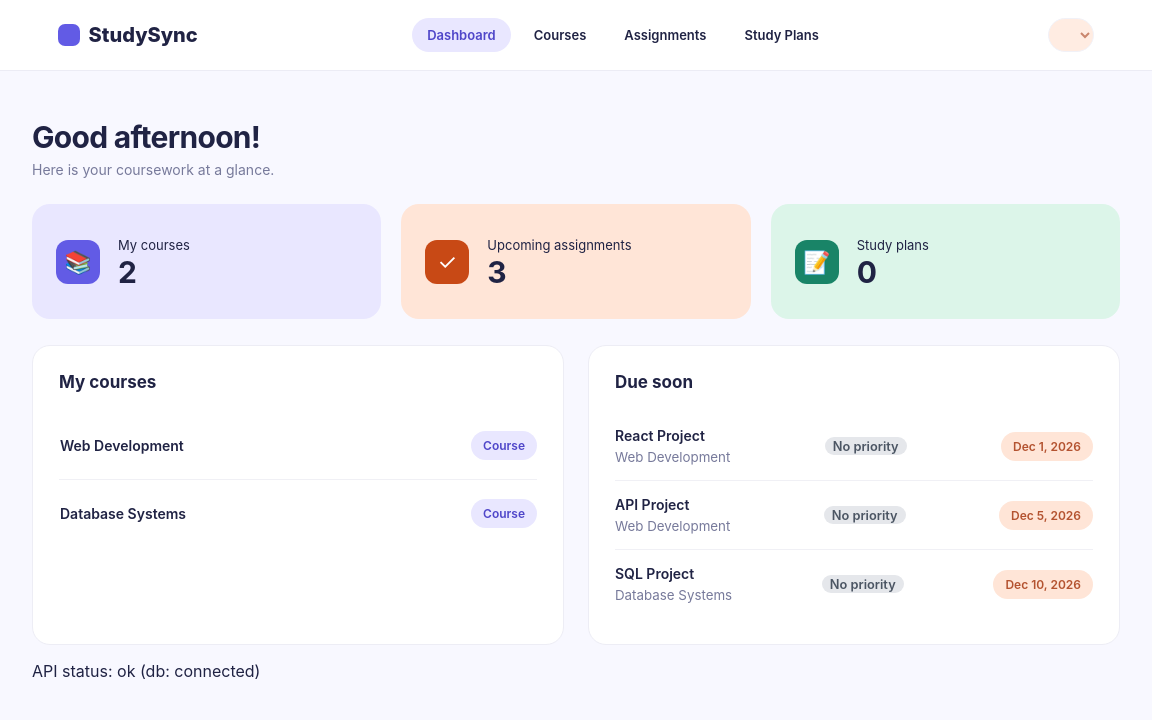
displays courses and their assignment counts
What coordinates should you click on to do the following:
click the button "Courses"
I would click on:
 (560, 35)
Its box is [519,18,601,52].
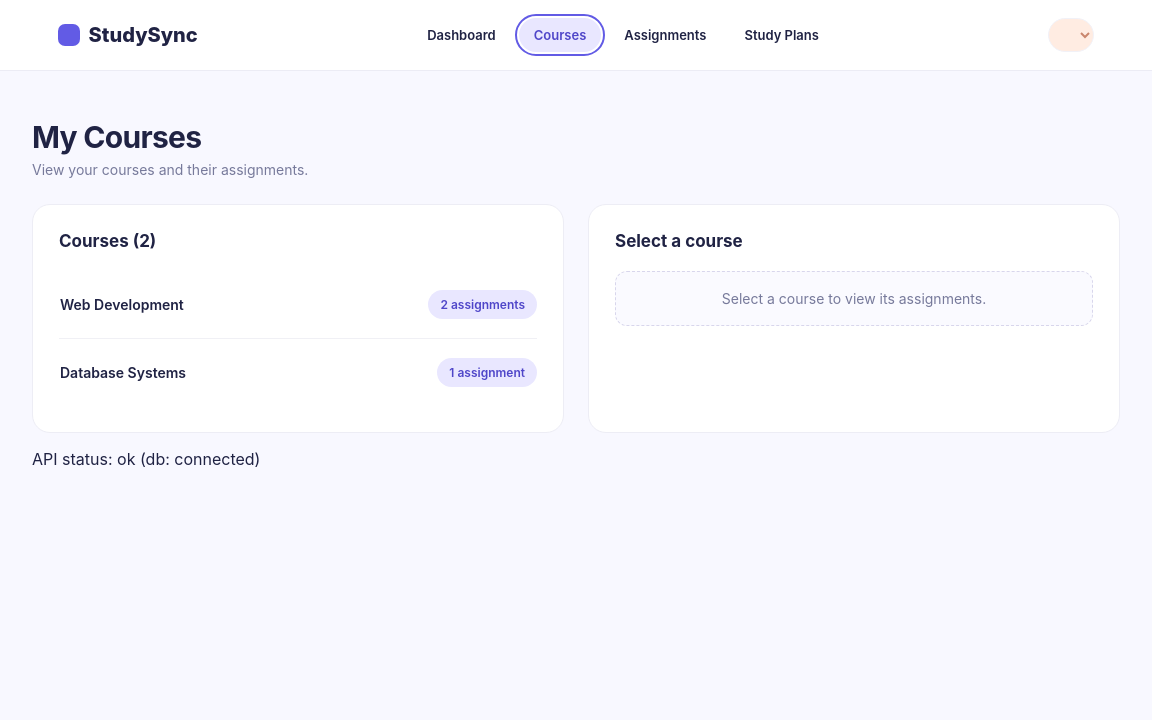
Check: the heading "Courses (2)" is shown, box [59,231,156,251]
Check: the text "2 assignments" is shown, box [428,290,537,319]
Check: the text "1 assignment" is shown, box [437,358,537,387]
What coordinates should you click on to do the following:
click the button "Web Development"
I would click on:
 (122, 304)
Its box is [47,286,197,323].
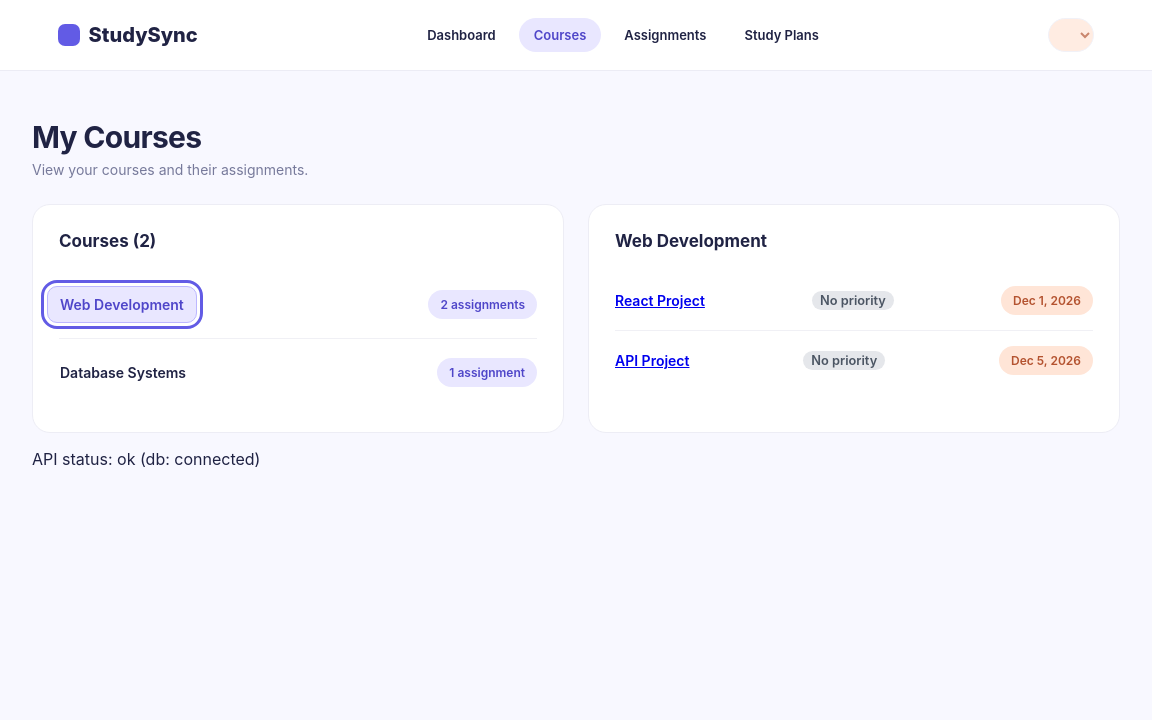
Check: the text "SQL Project" is not shown
Check: the link "React Project" is shown, box [615,292,705,309]
Check: the link "API Project" is shown, box [615,352,690,369]
What coordinates should you click on to do the following:
click the button "Database Systems"
I would click on:
 (123, 372)
Its box is [47,354,199,391].
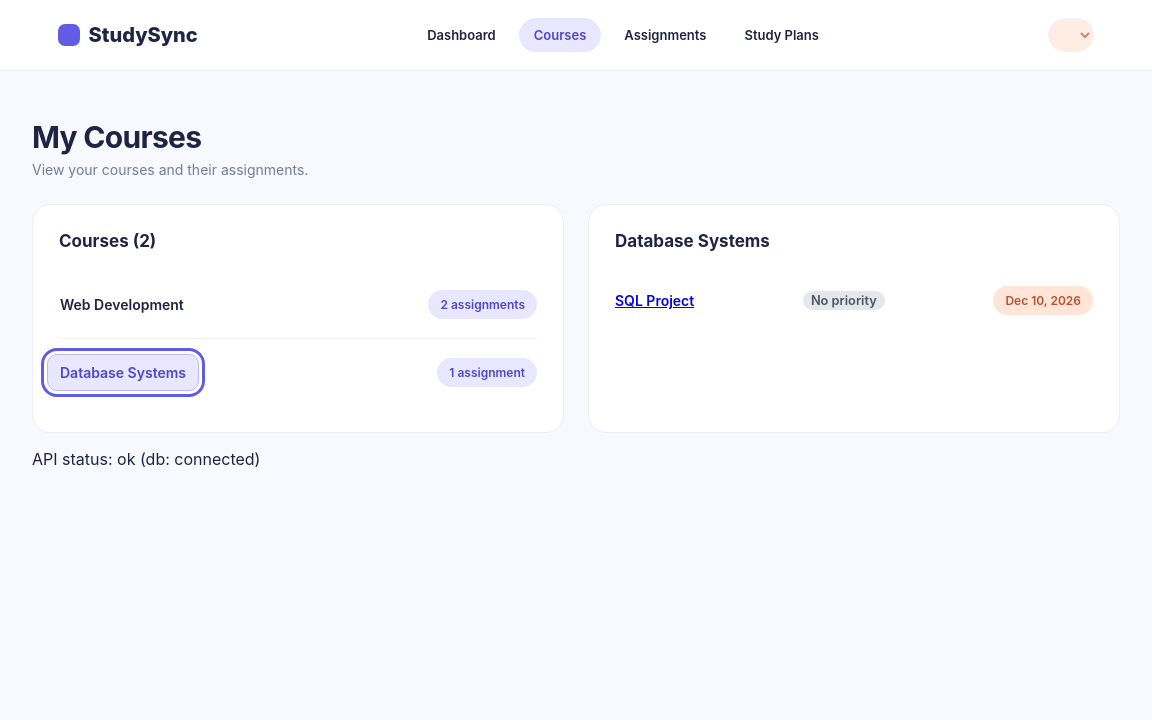
Check: the link "SQL Project" is shown, box [615,292,694,309]
Check: the link "React Project" is gone
Check: the link "API Project" is gone
